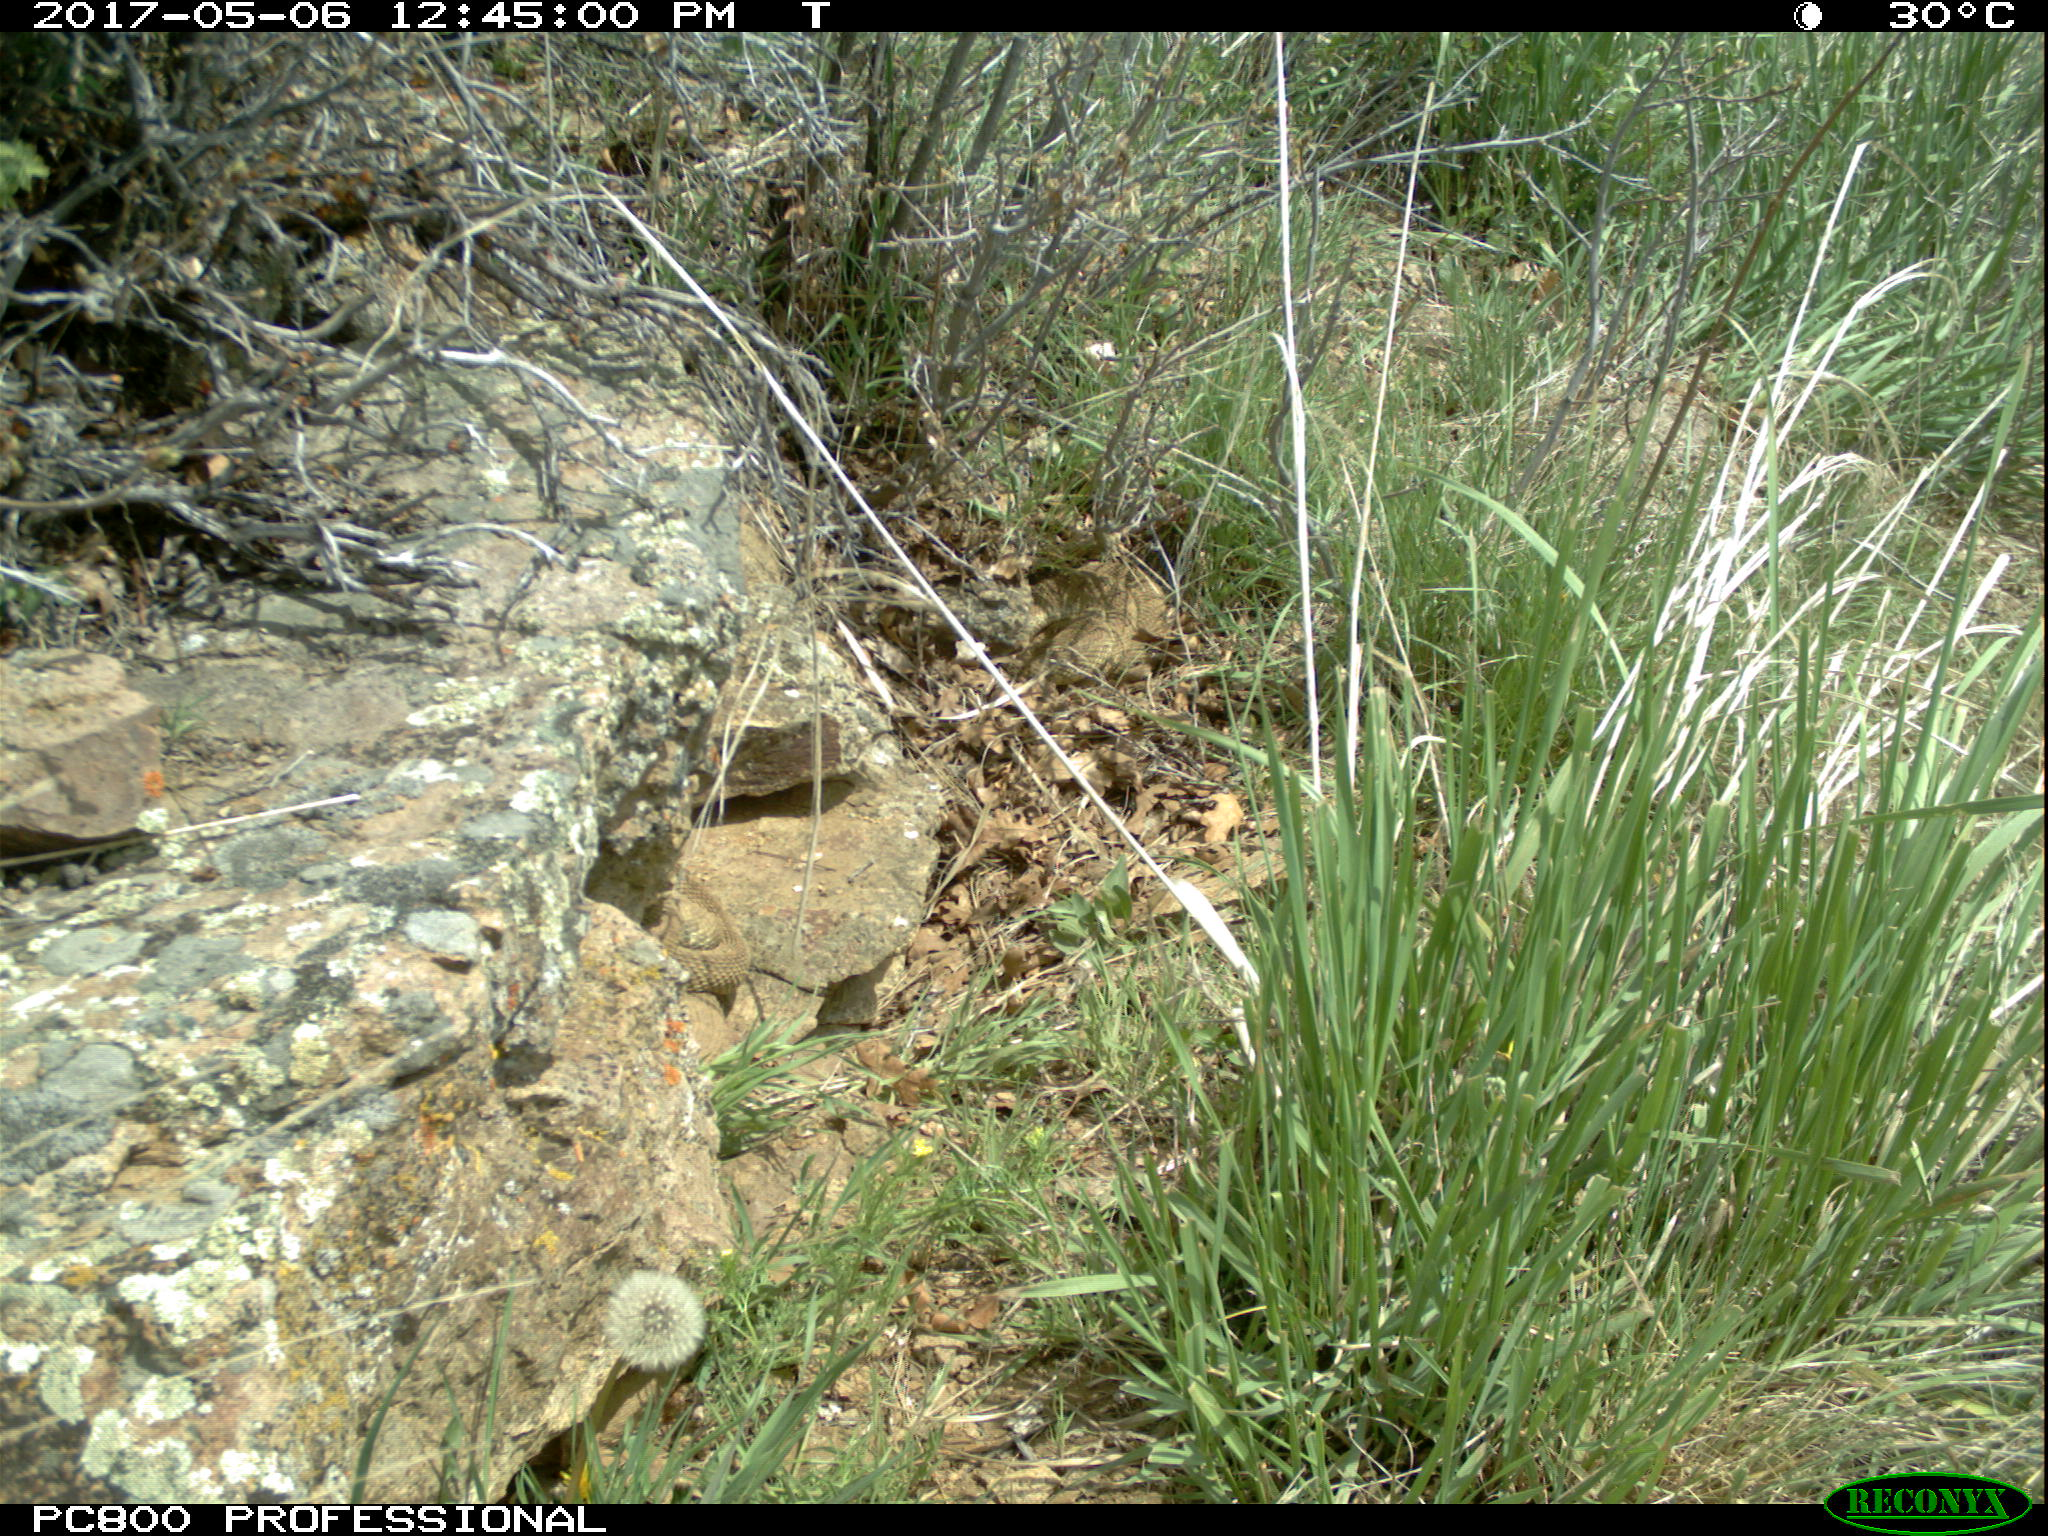snake: (653, 868, 780, 1055), (1030, 563, 1197, 684)
